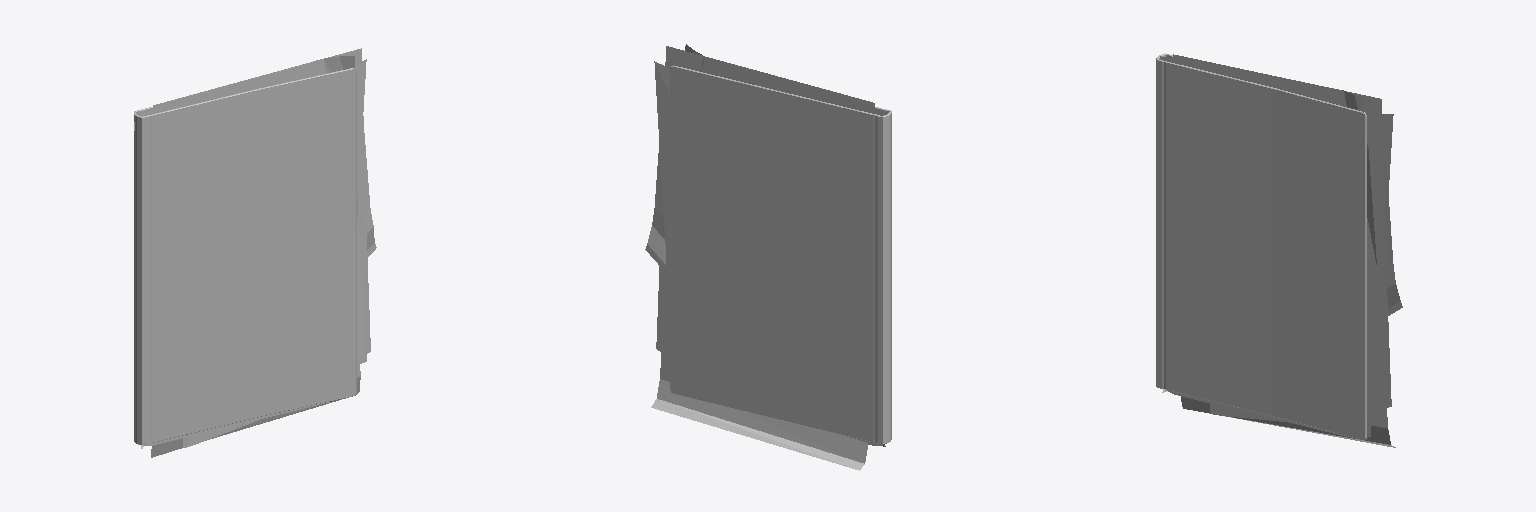
File: folder.obj
3 views of the same model, side by side, from view 1: azimuth 30°, elevation 25°; view 2: azimuth 150°, elevation 25°; view 3: azimuth 330°, elevation 25° (orthographic).
Parts seen in each view (by area): view 1: folder; view 2: folder; view 3: folder.
Boxes of the visible parts, x1=… form: folder: x1=134, y1=48, x2=376, y2=457; folder: x1=645, y1=44, x2=891, y2=470; folder: x1=1156, y1=53, x2=1402, y2=447.
Size of the model in its own units: 23.32 by 33.68 by 2.79.